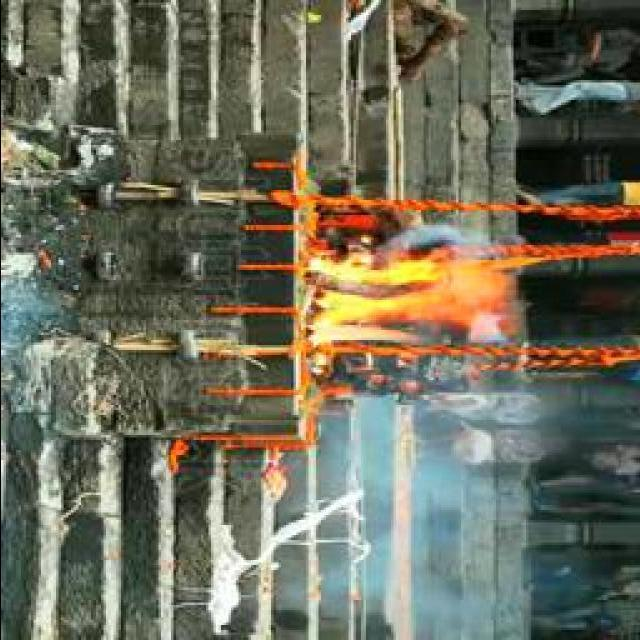Fire: (300, 253, 508, 359)
